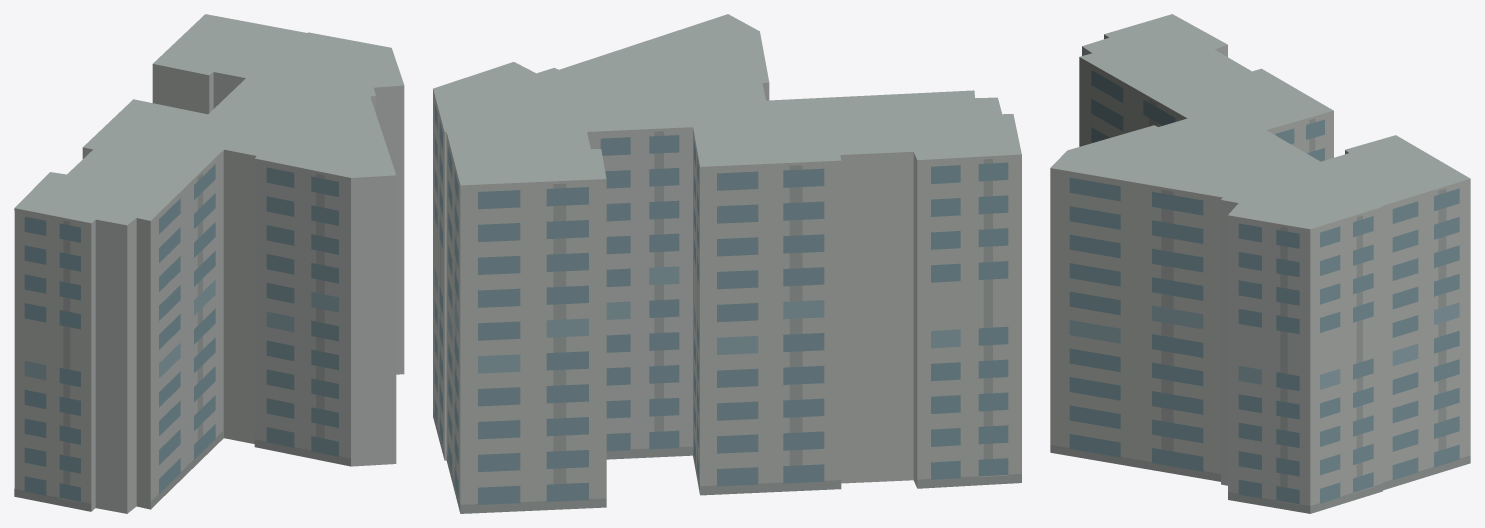
Rendered from survey-upis-32506460.glb.
The picture shows the model from 3 angles, left to right: view 1: azimuth 30°, elevation 25°; view 2: azimuth 150°, elevation 25°; view 3: azimuth 270°, elevation 25°; orthographic projection. The views are drawn at different scales.
Parts seen in each view (by area): view 1: survey-upis-32506460.tmp; view 2: survey-upis-32506460.tmp; view 3: survey-upis-32506460.tmp.
Part boxes in pixels (bbox=[...]): survey-upis-32506460.tmp: bbox=[14, 14, 404, 513]; survey-upis-32506460.tmp: bbox=[433, 14, 1021, 513]; survey-upis-32506460.tmp: bbox=[1050, 14, 1470, 513].
Bounding box in the file's own units: 46.39 × 28.6 × 38.28.
